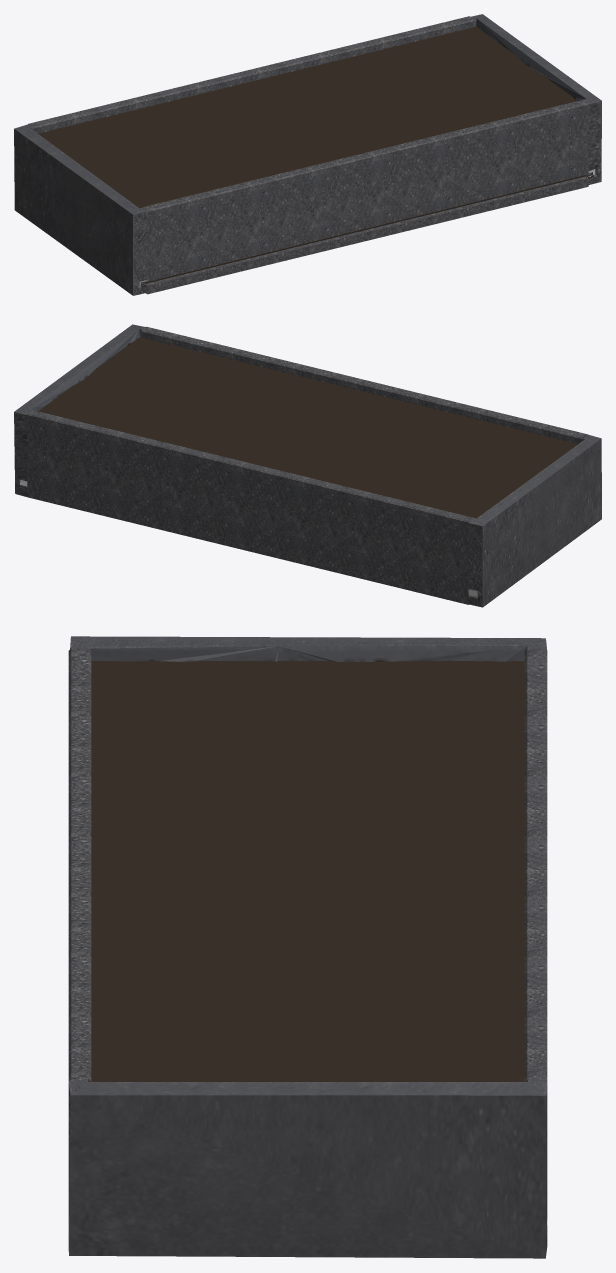
File: midori_2050_rear_planter.glb
3 views of the same model, one above another, from view 1: azimuth 30°, elevation 25°; view 2: azimuth 150°, elevation 25°; view 3: azimuth 270°, elevation 25° (orthographic). The views are drawn at different scales.
Parts seen in each view (by area): view 1: Midori2050RearPlanterMeshyBody, MidoriRearPlanterSoil, MidoriRearPlanterLightDiffuser; view 2: Midori2050RearPlanterMeshyBody, MidoriRearPlanterSoil; view 3: MidoriRearPlanterSoil, Midori2050RearPlanterMeshyBody.
Part boxes in pixels (left/top/right/bottom): Midori2050RearPlanterMeshyBody: left=14, top=14, right=601, bottom=295; MidoriRearPlanterSoil: left=38, top=26, right=576, bottom=208; MidoriRearPlanterLightDiffuser: left=145, top=175, right=586, bottom=283; Midori2050RearPlanterMeshyBody: left=14, top=324, right=601, bottom=607; MidoriRearPlanterSoil: left=38, top=337, right=577, bottom=518; MidoriRearPlanterSoil: left=91, top=661, right=524, bottom=1081; Midori2050RearPlanterMeshyBody: left=68, top=636, right=547, bottom=1258.
Size of the model in its own units: 3.35 by 0.57 by 1.48.
Materials: 2 (1 with a texture image).
